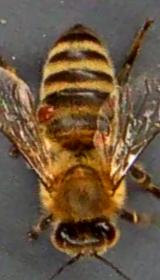varroa_mite: (30, 92, 60, 128)
